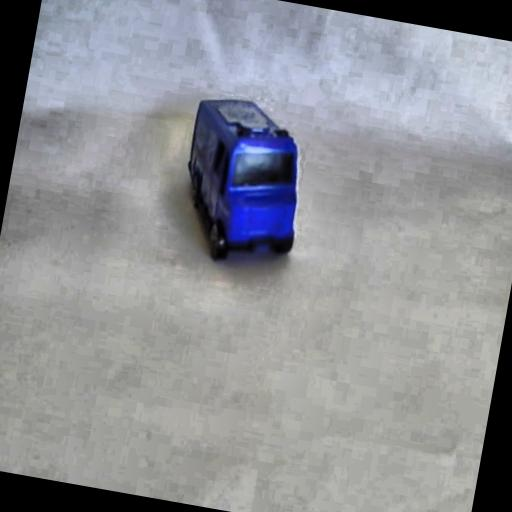police car: (172, 98, 318, 272)
